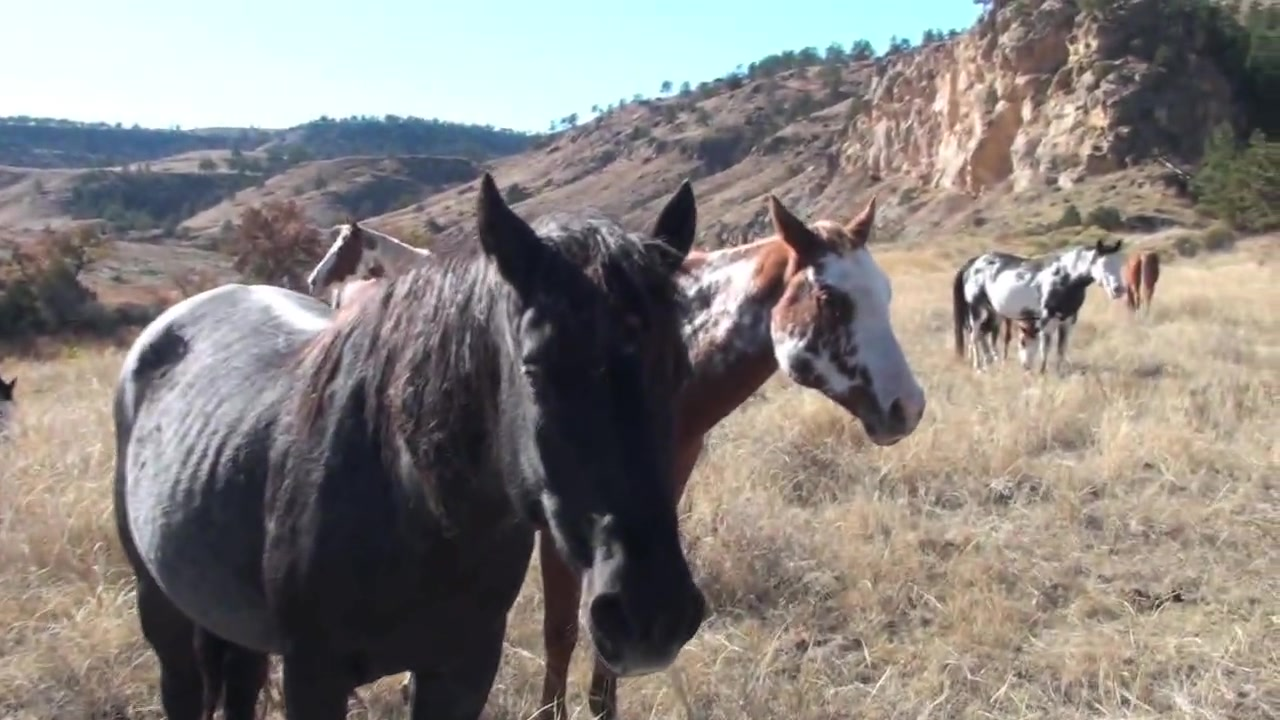horse: (115, 171, 713, 720)
